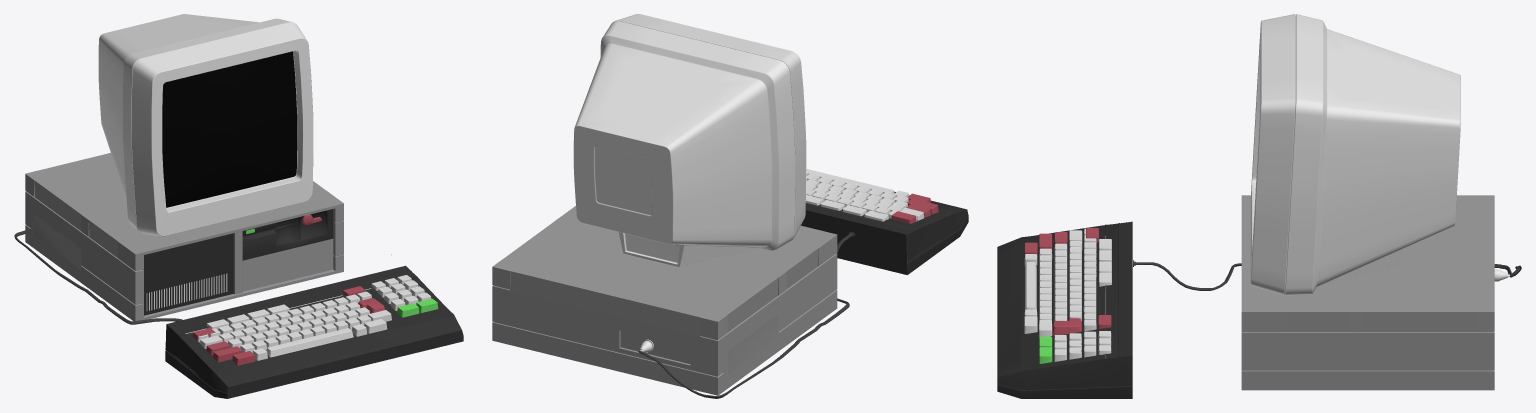
The model's file is Computer.glb.
3 renders of one model, left to right at view 1: azimuth 30°, elevation 25°; view 2: azimuth 150°, elevation 25°; view 3: azimuth 270°, elevation 25°, orthographic. The views are drawn at different scales.
Parts seen in each view (by area): view 1: Monitor.001, Computer case.001, Monitor.004, Keyboard, front grill.001, front grill, 80, Cable; view 2: Monitor.001, Computer case.001, Keyboard, Cable, 80; view 3: Monitor.001, Computer case.001, Keyboard, Cable, 80.
Part boxes in pixels (bbox=[...]): Monitor.001: bbox=[98, 14, 313, 236]; Computer case.001: bbox=[25, 153, 343, 321]; Monitor.004: bbox=[162, 51, 297, 207]; Keyboard: bbox=[165, 254, 463, 398]; front grill.001: bbox=[143, 233, 233, 315]; front grill: bbox=[146, 273, 227, 310]; 80: bbox=[266, 328, 353, 357]; Cable: bbox=[14, 230, 182, 324]; Monitor.001: bbox=[573, 14, 806, 267]; Computer case.001: bbox=[492, 206, 837, 395]; Keyboard: bbox=[801, 191, 968, 274]; Cable: bbox=[638, 231, 855, 398]; 80: bbox=[806, 169, 894, 193]; Monitor.001: bbox=[1250, 14, 1460, 295]; Computer case.001: bbox=[1241, 195, 1494, 390]; Keyboard: bbox=[997, 221, 1132, 398]; Cable: bbox=[1133, 260, 1521, 290]; 80: bbox=[1025, 262, 1036, 309].
Bounding box in the file's own units: 10.29 × 9.75 × 16.86.
